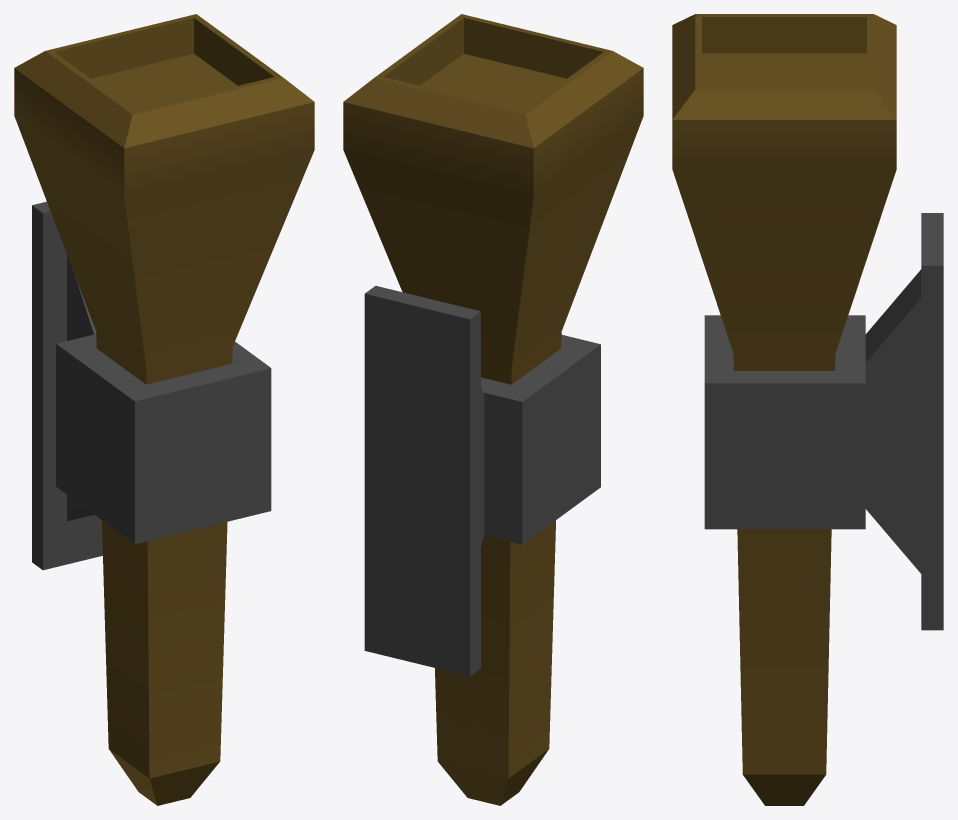
Rendered from Model_Torch.fbx.
The picture shows the model from 3 angles, left to right: view 1: azimuth 30°, elevation 25°; view 2: azimuth 150°, elevation 25°; view 3: azimuth 270°, elevation 25°; orthographic projection. The views are drawn at different scales.
Visible parts, largest first — view 1: Torch, Holder; view 2: Torch, Holder; view 3: Torch, Holder.
Part boxes in pixels (bbox=[...]): Torch: bbox=[14, 14, 314, 805]; Holder: bbox=[32, 201, 271, 570]; Torch: bbox=[343, 14, 643, 805]; Holder: bbox=[364, 285, 600, 676]; Torch: bbox=[672, 14, 896, 805]; Holder: bbox=[704, 213, 943, 630].
Bounding box in the file's own units: 0.1975 × 0.7238 × 0.2388.
